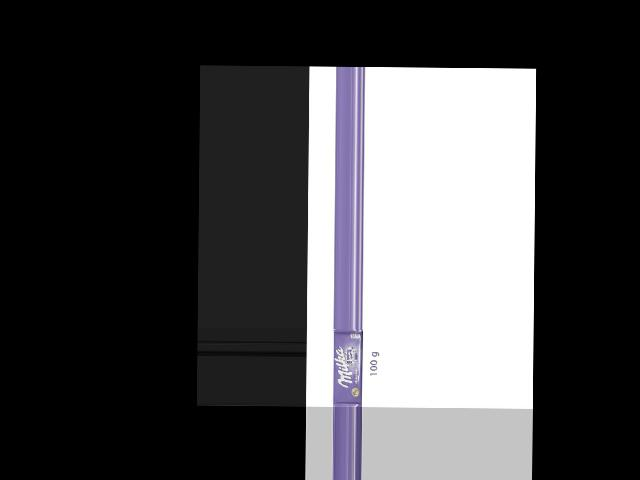chocolate: (332, 328, 368, 405)
